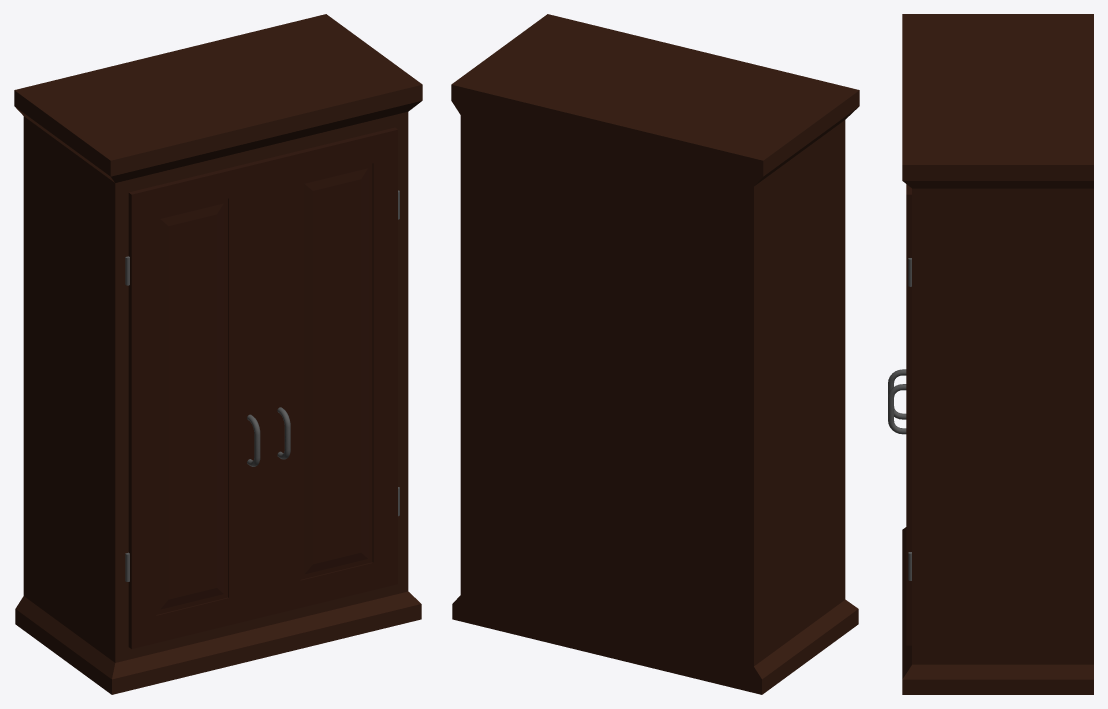
The model's file is Placard.fbx.
3 renders of one model, left to right at view 1: azimuth 30°, elevation 25°; view 2: azimuth 150°, elevation 25°; view 3: azimuth 270°, elevation 25°, orthographic.
Parts seen in each view (by area): view 1: Placard; view 2: Placard; view 3: Placard.
Part boxes in pixels (x1,y1,x2,y2): Placard: [14, 14, 422, 694]; Placard: [451, 14, 859, 694]; Placard: [888, 14, 1093, 694].
Size of the model in its own units: 166 by 272 by 95.9.
